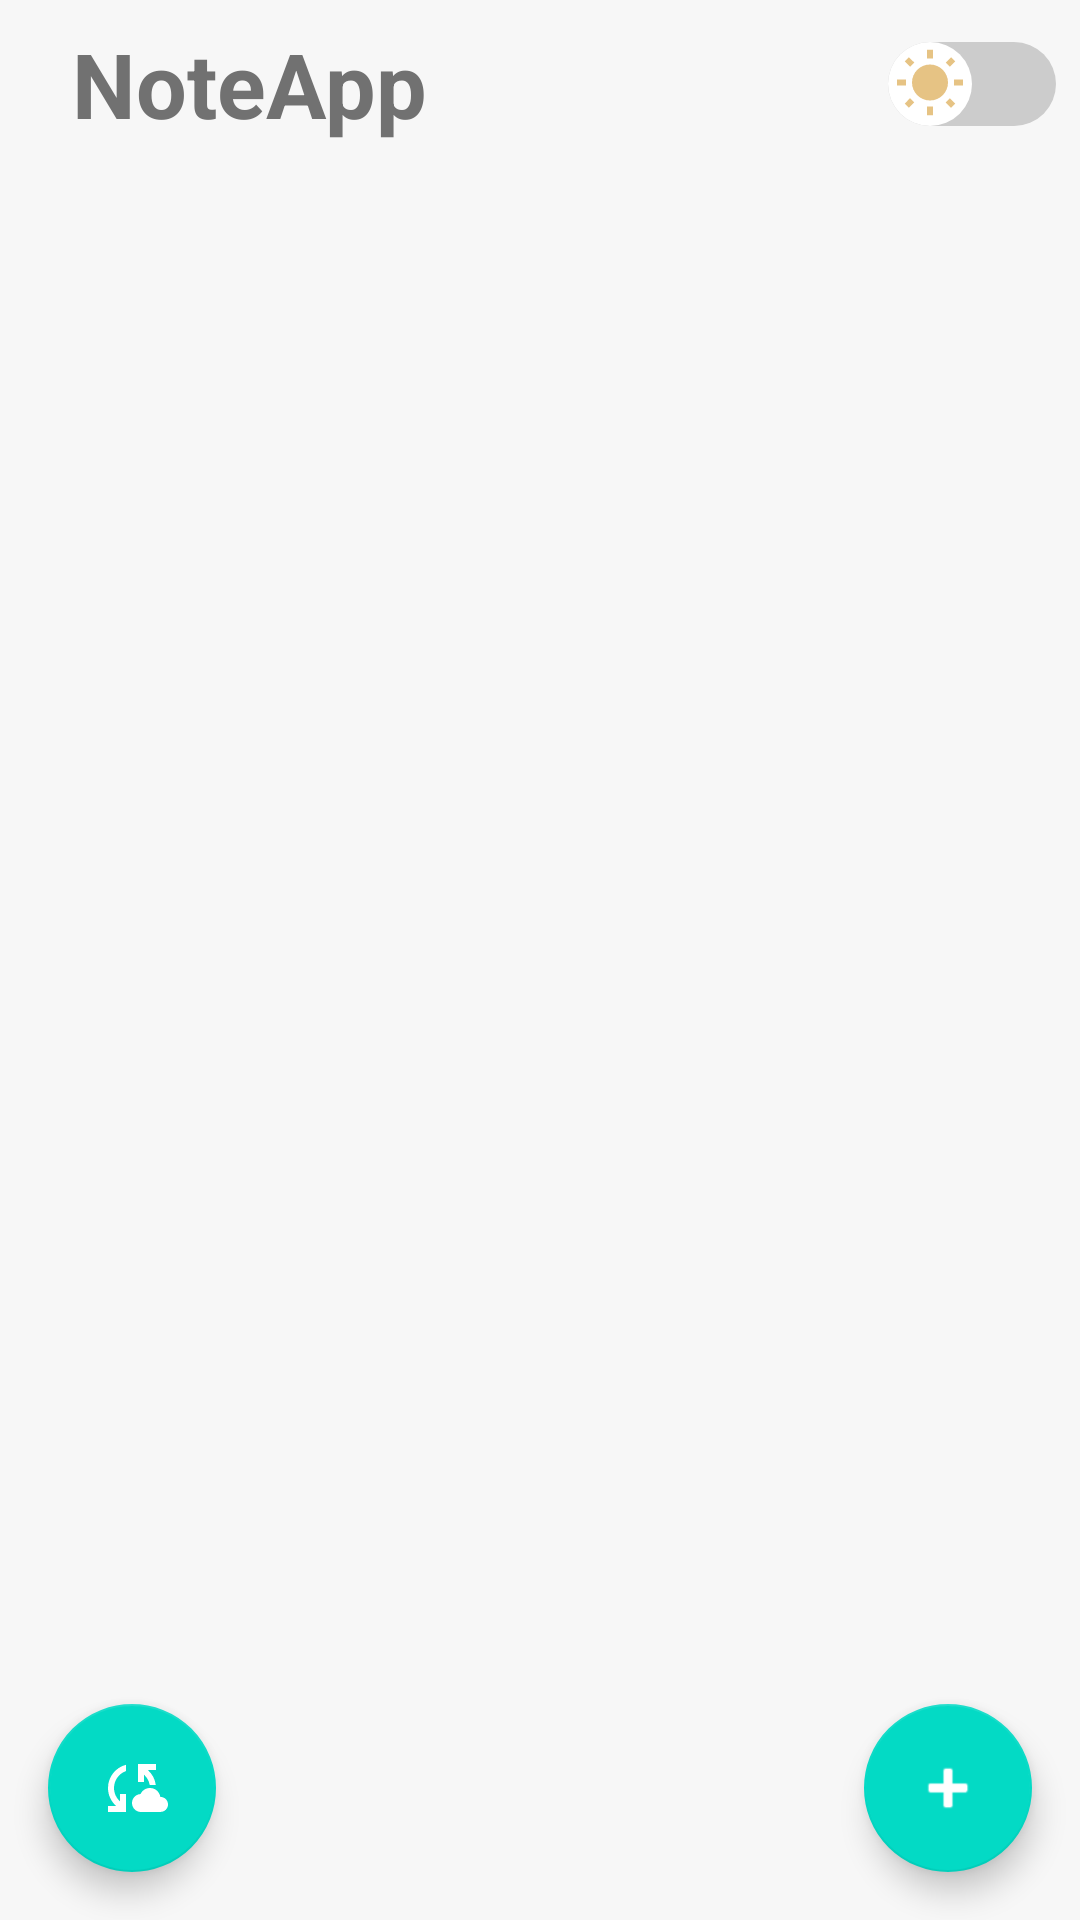

Icon click points for this 1080x1920 phone screenshot, format (x=x, y=y):
add: (x=948, y=1788)
cloud sync: (x=132, y=1788)
